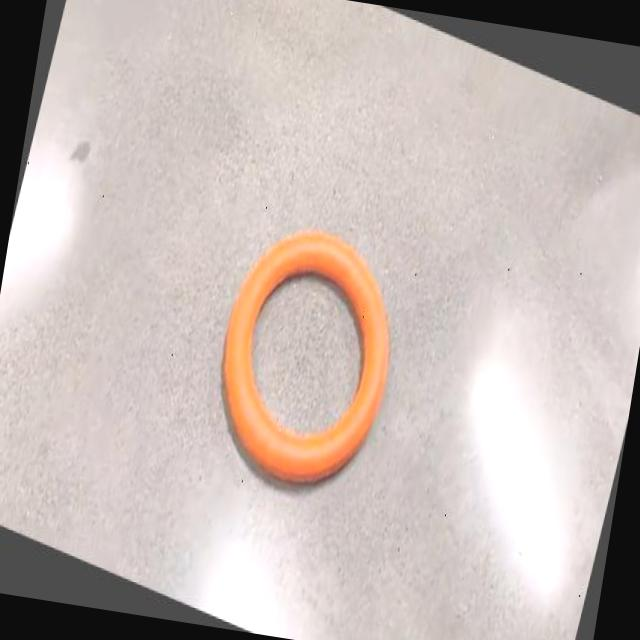note: (223, 231, 388, 481)
